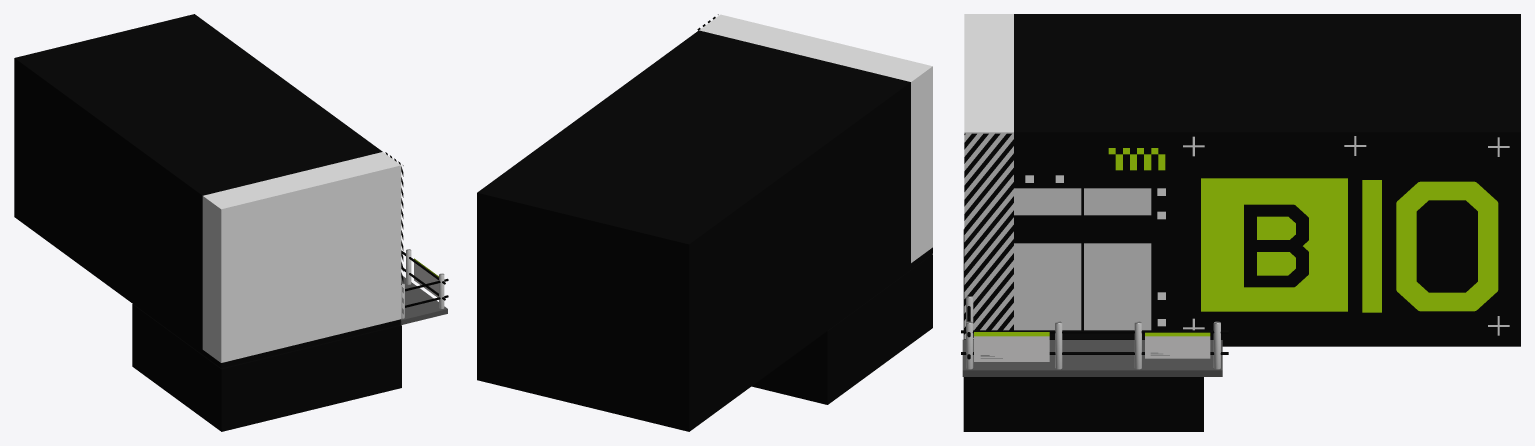
File: bat2-JM.fbx
3 renders of one model, left to right at view 1: azimuth 30°, elevation 25°; view 2: azimuth 150°, elevation 25°; view 3: azimuth 270°, elevation 25°, orthographic. The views are drawn at different scales.
Visible parts, largest first — view 1: Cube.025, Cube.026, Cube.027, Cylinder.029, Cylinder.028, Plane; view 2: Cube.025, Cube.026; view 3: Cube.025, Plane.002, Cube.026, Curve.002, Cube.027, Curve.001, Curve.004, Curve.003, Plane, Plane.001, Cylinder.029, Cylinder.028 (+1 smaller).
Part boxes in pixels (<box>): Cube.025: <box>14,14,401,368</box>; Cube.026: <box>132,304,401,431</box>; Cube.027: <box>400,276,447,324</box>; Cylinder.029: <box>401,249,444,318</box>; Cylinder.028: <box>401,250,448,307</box>; Plane: <box>414,258,438,297</box>; Cube.025: <box>477,14,932,431</box>; Cube.026: <box>751,254,932,404</box>; Cube.025: <box>964,14,1520,346</box>; Plane.002: <box>1201,178,1347,311</box>; Cube.026: <box>963,229,1203,431</box>; Curve.002: <box>1396,181,1498,311</box>; Cube.027: <box>962,339,1222,376</box>; Curve.001: <box>964,133,1013,337</box>; Curve.004: <box>1244,204,1308,287</box>; Curve.003: <box>1362,180,1381,312</box>; Plane: <box>974,332,1049,361</box>; Plane.001: <box>1145,332,1210,358</box>; Cylinder.029: <box>966,296,1220,369</box>; Cylinder.028: <box>961,306,1228,359</box>.
Size of the model in its own units: 683 by 636 by 1077.
